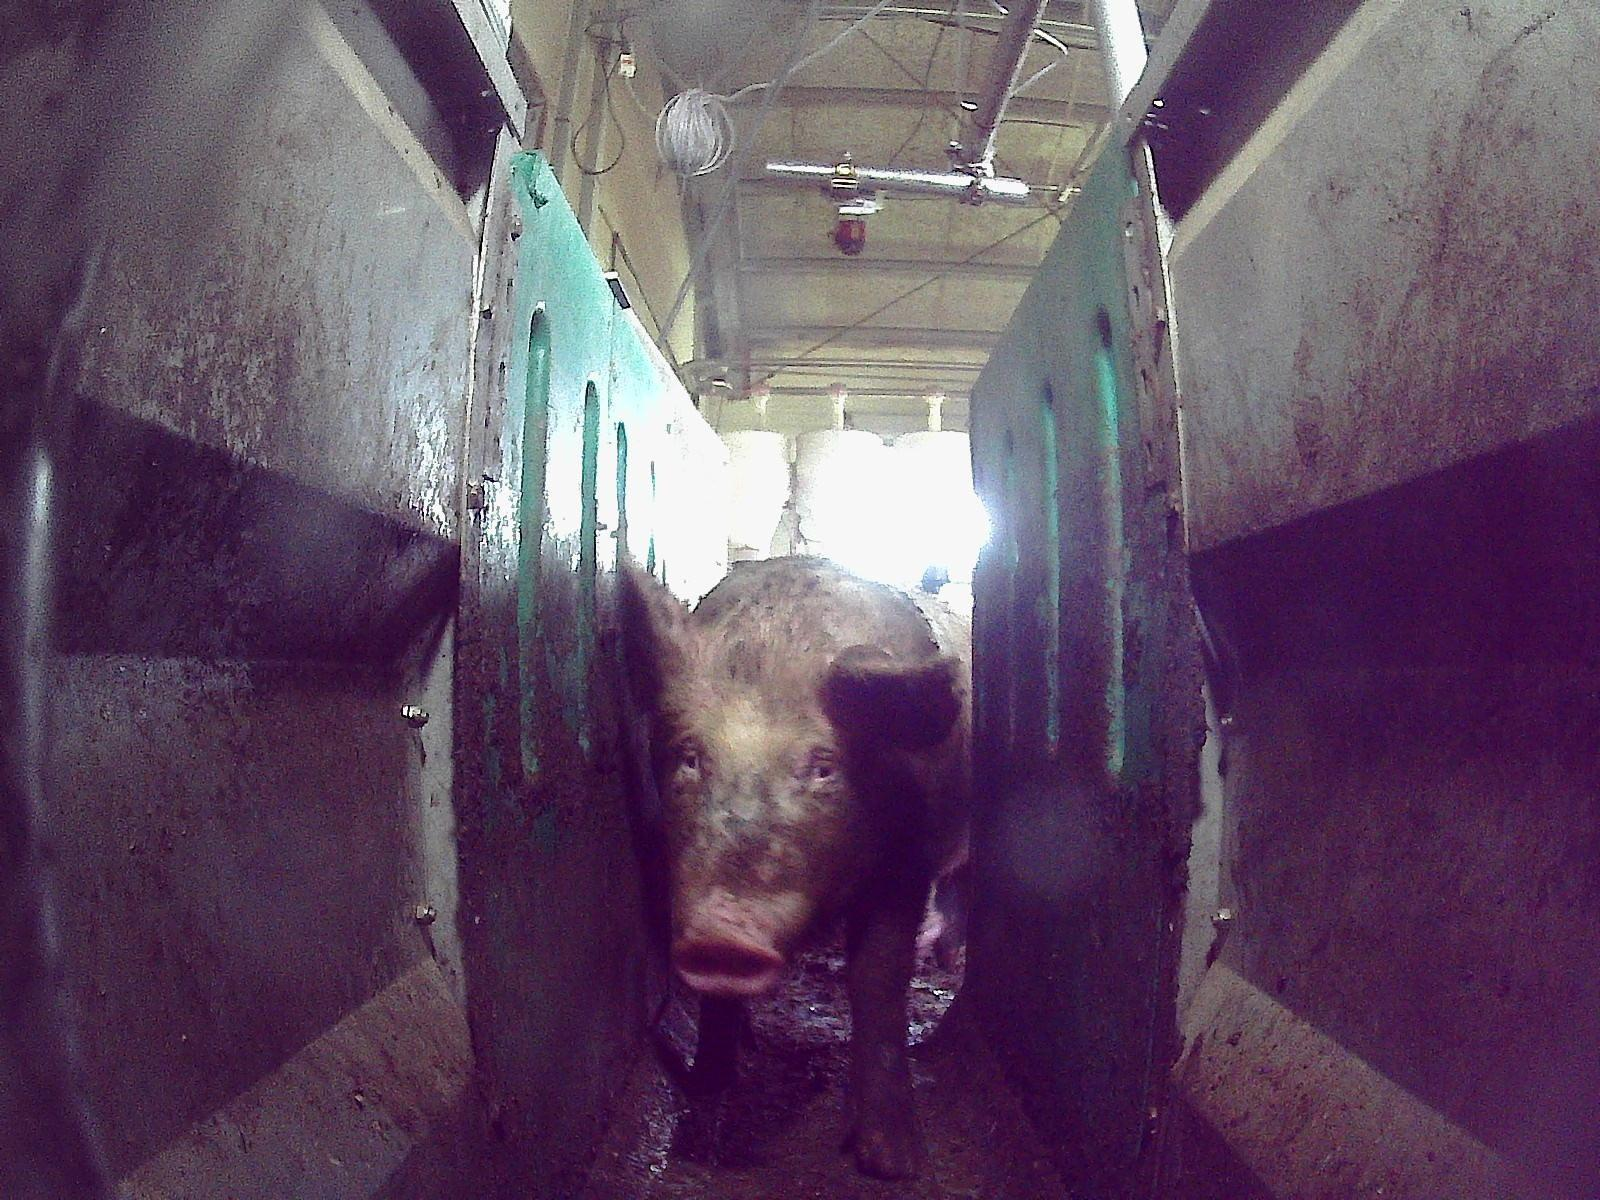Face: (648, 661, 870, 995)
